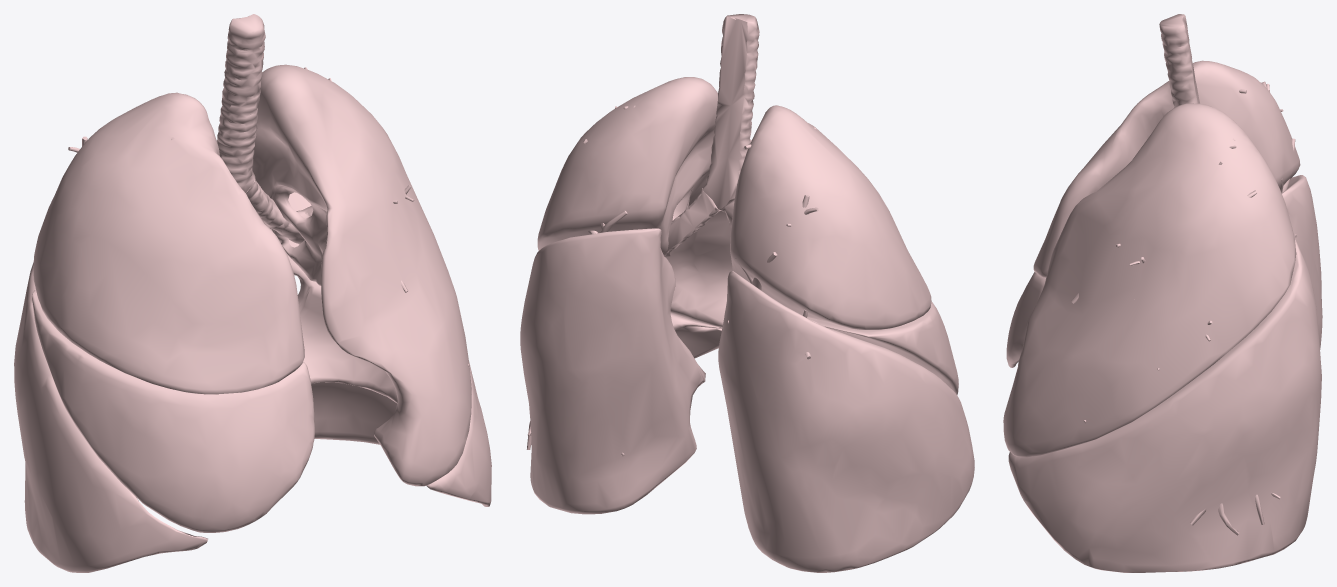
Rendered from respiratoire-thorax.lo.glb.
3 views of the same model, side by side, from view 1: azimuth 30°, elevation 25°; view 2: azimuth 150°, elevation 25°; view 3: azimuth 270°, elevation 25° (orthographic). The views are drawn at different scales.
Visible parts, largest first — view 1: ZA-superior-lobe-of-right-lung, ZA-superior-lobe-of-left-lung, ZA-middle-lobe-of-right-lung, ZA-inferior-lobe-of-right-lung, ZA-inferior-lobe-of-left-lung, FJ2541, FJ2450; view 2: ZA-inferior-lobe-of-right-lung, ZA-inferior-lobe-of-left-lung, ZA-superior-lobe-of-right-lung, ZA-superior-lobe-of-left-lung, FJ2541, ZA-middle-lobe-of-right-lung, FJ2450; view 3: ZA-superior-lobe-of-left-lung, ZA-inferior-lobe-of-left-lung, ZA-superior-lobe-of-right-lung, ZA-inferior-lobe-of-right-lung, FJ2541, ZA-middle-lobe-of-right-lung.
Boxes of the visible parts, left/top/right/bottom form: ZA-superior-lobe-of-right-lung: left=33, top=92, right=304, bottom=394; ZA-superior-lobe-of-left-lung: left=252, top=64, right=471, bottom=486; ZA-middle-lobe-of-right-lung: left=31, top=290, right=314, bottom=532; ZA-inferior-lobe-of-right-lung: left=14, top=262, right=207, bottom=572; ZA-inferior-lobe-of-left-lung: left=288, top=192, right=491, bottom=506; FJ2541: left=217, top=14, right=265, bottom=192; FJ2450: left=246, top=178, right=313, bottom=244; ZA-inferior-lobe-of-right-lung: left=718, top=271, right=974, bottom=572; ZA-inferior-lobe-of-left-lung: left=520, top=228, right=721, bottom=514; ZA-superior-lobe-of-right-lung: left=730, top=105, right=931, bottom=329; ZA-superior-lobe-of-left-lung: left=537, top=77, right=751, bottom=328; FJ2541: left=702, top=14, right=759, bottom=210; ZA-middle-lobe-of-right-lung: left=807, top=302, right=958, bottom=394; FJ2450: left=663, top=188, right=721, bottom=255; ZA-superior-lobe-of-left-lung: left=1003, top=103, right=1296, bottom=457; ZA-inferior-lobe-of-left-lung: left=1008, top=239, right=1321, bottom=572; ZA-superior-lobe-of-right-lung: left=1033, top=60, right=1300, bottom=277; ZA-inferior-lobe-of-right-lung: left=1282, top=175, right=1322, bottom=349; FJ2541: left=1159, top=14, right=1199, bottom=107; ZA-middle-lobe-of-right-lung: left=1006, top=272, right=1045, bottom=367.
Size of the model in its own units: 0.2502 by 0.2918 by 0.1814.
